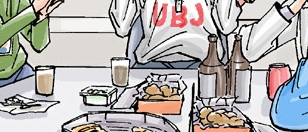beer: (195, 31, 229, 98), (223, 32, 252, 104), (32, 62, 56, 97), (107, 54, 131, 88)
bottle: (222, 31, 255, 104), (195, 29, 228, 97)
cup: (29, 61, 57, 98), (107, 53, 132, 90)
